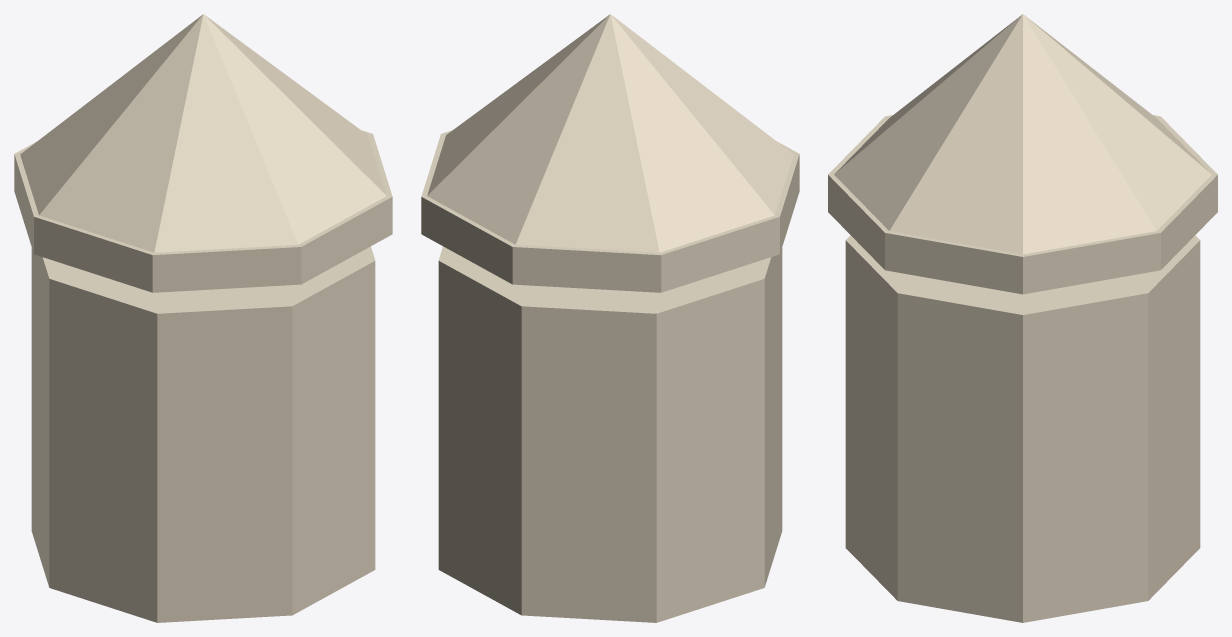
File: accent_en.glb
3 views of the same model, side by side, from view 1: azimuth 30°, elevation 25°; view 2: azimuth 150°, elevation 25°; view 3: azimuth 270°, elevation 25° (orthographic).
Parts seen in each view (by area): view 1: Fort_Accent_en; view 2: Fort_Accent_en; view 3: Fort_Accent_en.
Part boxes in pixels (x1,y1,x2,y2): Fort_Accent_en: [14, 14, 392, 622]; Fort_Accent_en: [421, 14, 799, 622]; Fort_Accent_en: [828, 14, 1217, 622].
Bounding box in the file's own units: 1.32 × 2 × 1.32.
